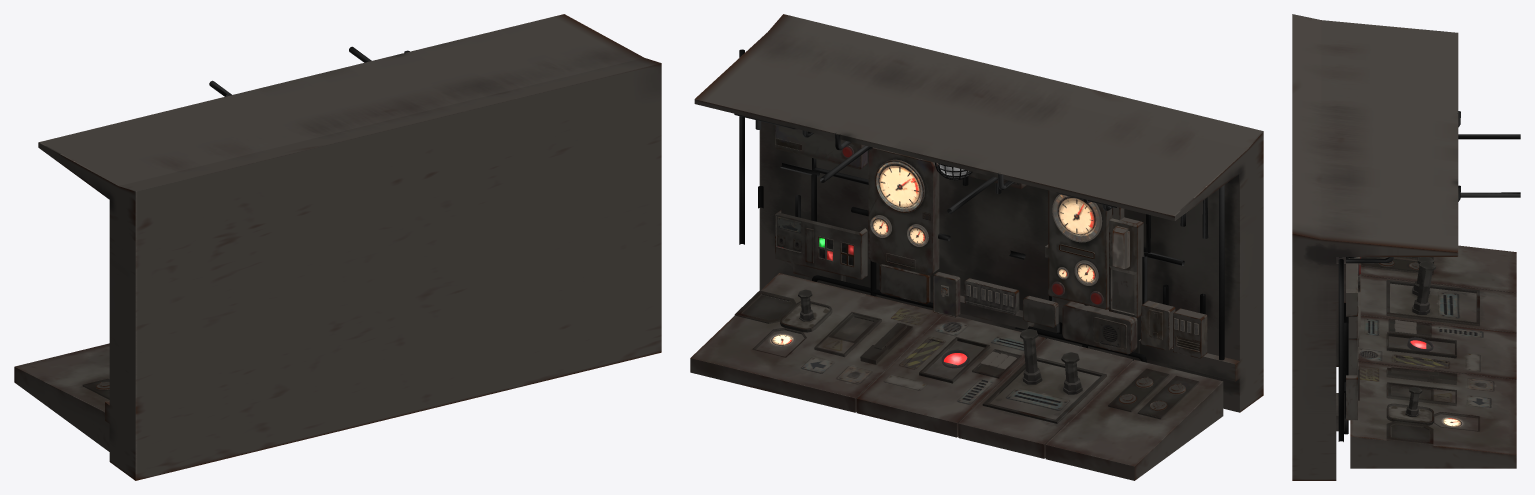
Rendered from Escenario.fbx.
3 renders of one model, left to right at view 1: azimuth 30°, elevation 25°; view 2: azimuth 150°, elevation 25°; view 3: azimuth 270°, elevation 25°, orthographic. The views are drawn at different scales.
Visible parts, largest first — view 1: Fondo, MesaContol; view 2: Fondo, MesaContol, Escenario, Extras, Tuberias, Palancas; view 3: Fondo, MesaContol, Tuberias, Escenario, Palancas, Extras.
Boxes of the visible parts, <box> form: Fondo: <box>38,14,661,480</box>; MesaContol: <box>14,343,109,451</box>; Fondo: <box>694,14,1263,412</box>; MesaContol: <box>690,273,1223,480</box>; Escenario: <box>775,125,1207,358</box>; Extras: <box>768,145,1198,410</box>; Tuberias: <box>734,49,1224,362</box>; Palancas: <box>798,289,1082,394</box>; Fondo: <box>1292,14,1458,480</box>; MesaContol: <box>1350,245,1516,468</box>; Tuberias: <box>1338,111,1520,441</box>; Escenario: <box>1346,257,1359,420</box>; Palancas: <box>1405,257,1436,416</box>; Extras: <box>1358,257,1464,428</box>.
Size of the model in its own units: 567 by 288 by 241.
13 materials, 11 textured.
